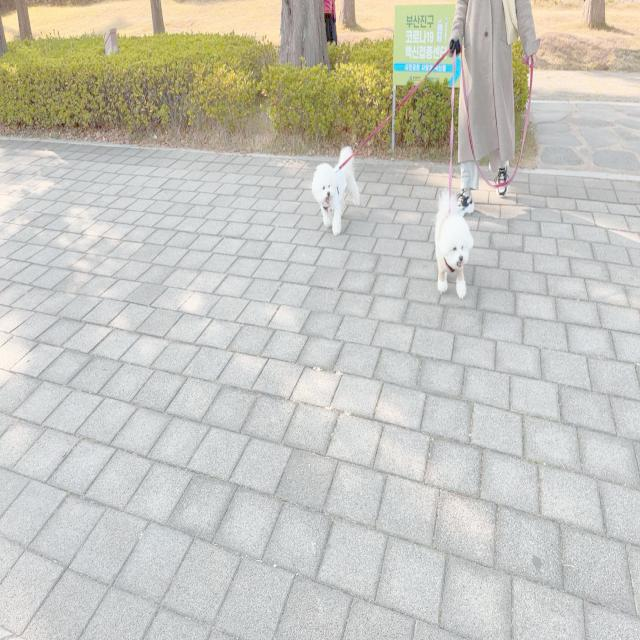Leashed_Dog: (312, 26, 494, 237), (435, 27, 495, 300)
